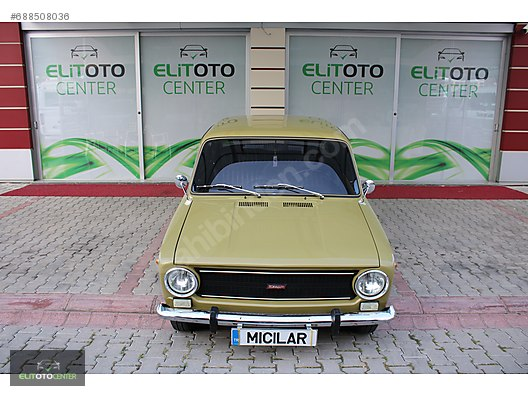murat: (151, 110, 402, 349)
